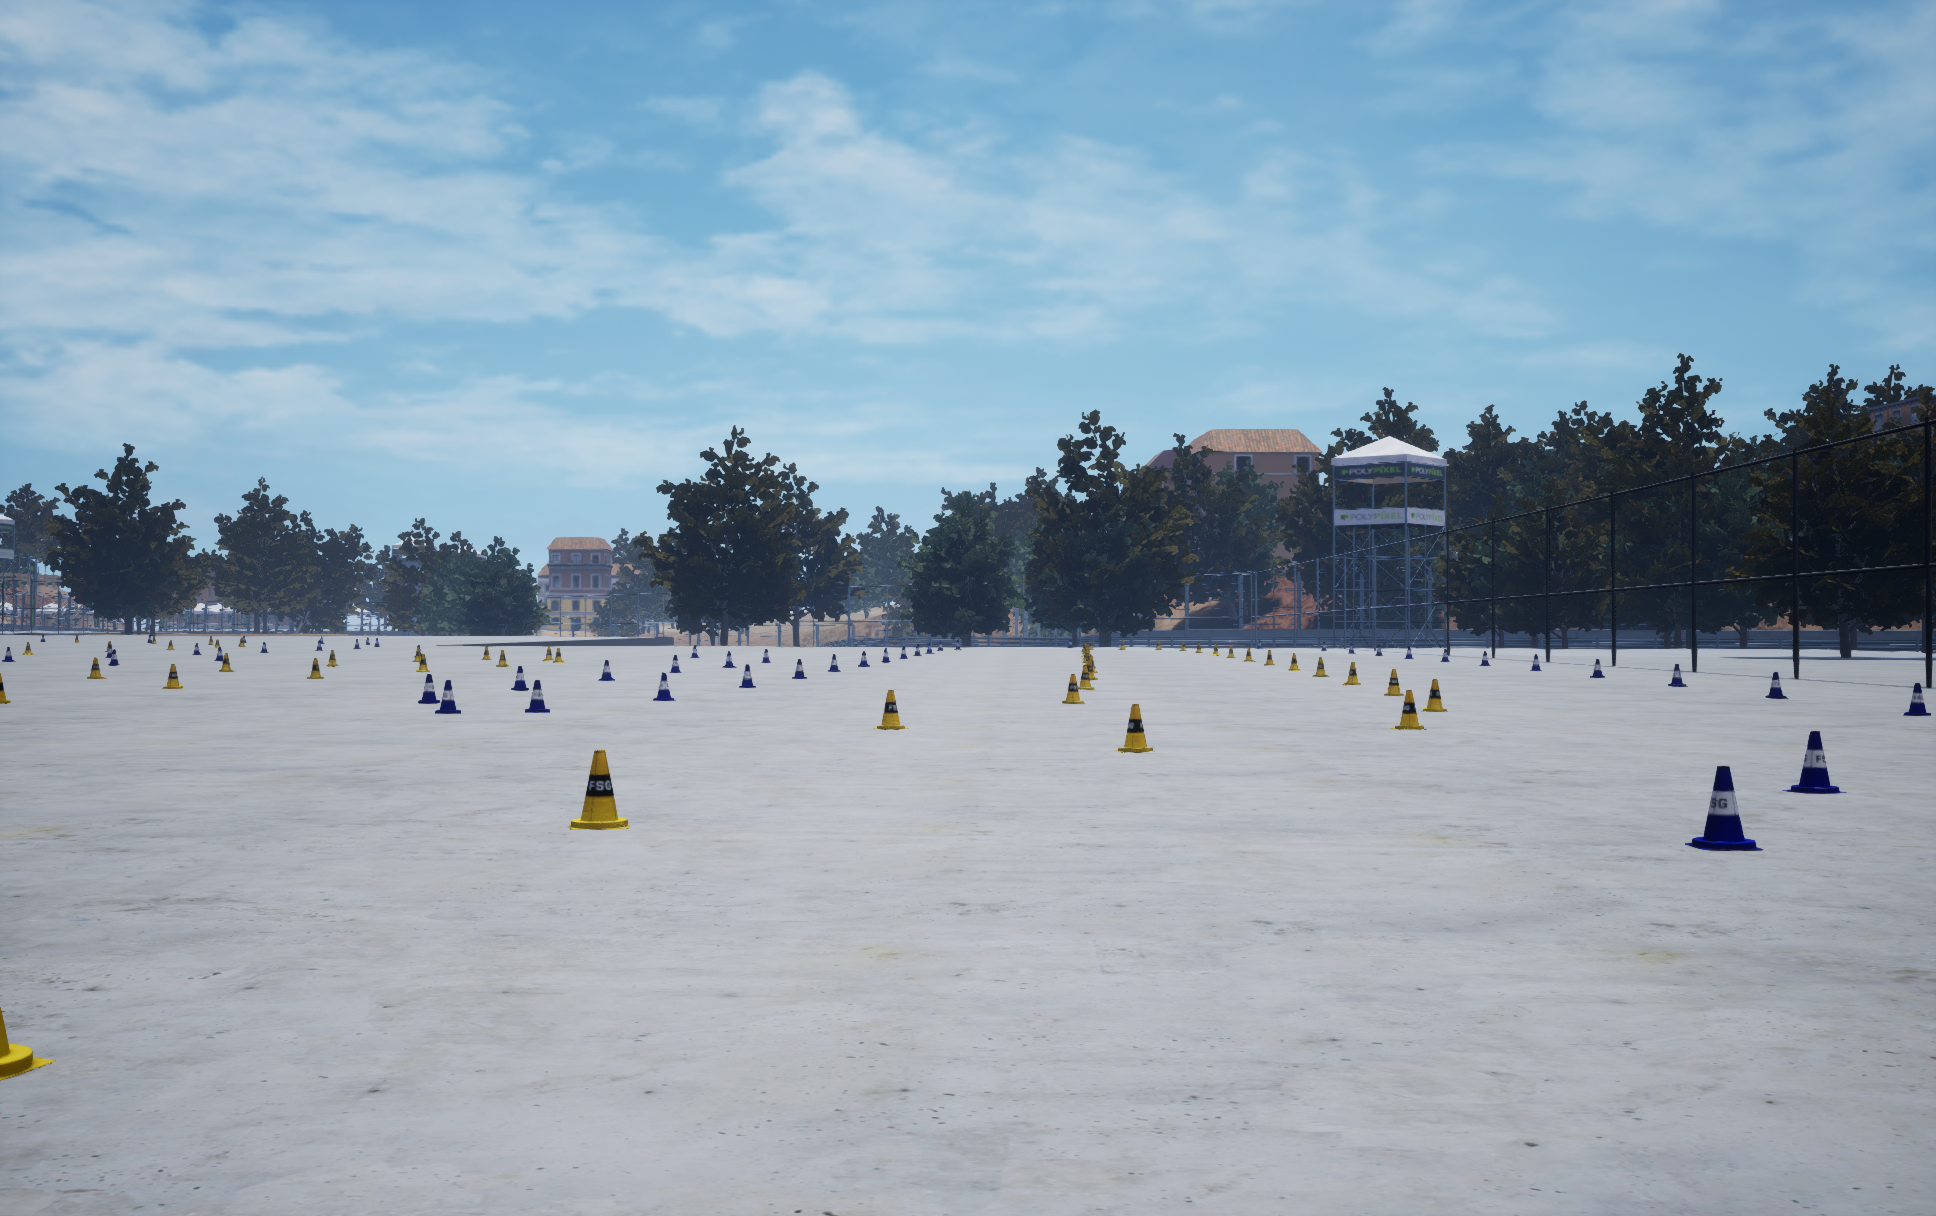blue: (569, 749, 628, 829), (0, 1007, 55, 1080), (1115, 705, 1154, 752), (1390, 691, 1426, 728), (873, 691, 908, 728), (1420, 679, 1447, 712), (1062, 674, 1086, 703), (1384, 670, 1404, 695), (163, 664, 182, 688), (87, 657, 106, 678), (1079, 665, 1095, 689), (1342, 663, 1360, 684), (307, 658, 324, 678), (1313, 657, 1329, 677)
yellow: (1685, 766, 1764, 850), (1782, 731, 1846, 793), (1902, 684, 1930, 714), (436, 679, 459, 713), (525, 679, 549, 712), (653, 672, 675, 700), (417, 674, 438, 703), (1765, 672, 1788, 698), (511, 665, 528, 691), (1668, 664, 1687, 686), (740, 664, 755, 686), (598, 660, 614, 679), (791, 658, 805, 678), (1590, 658, 1604, 677), (828, 654, 841, 671), (670, 656, 681, 672)
